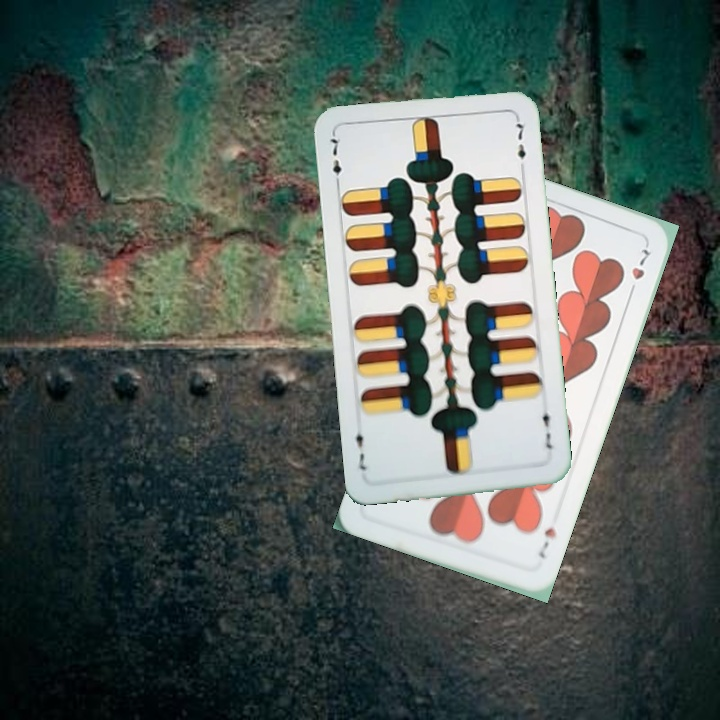E7: (326, 131, 344, 190), (538, 402, 555, 452)
H7: (533, 523, 559, 561)
